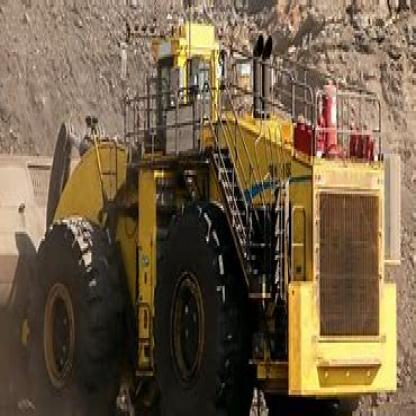bull_dozer/loader/grader: (0, 17, 408, 404)
